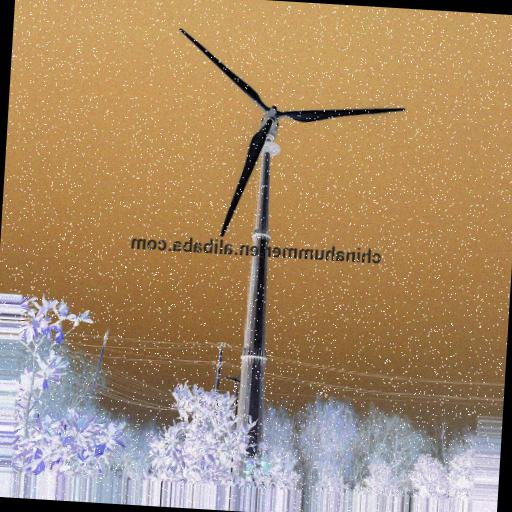wind turbine: (179, 29, 407, 465)
